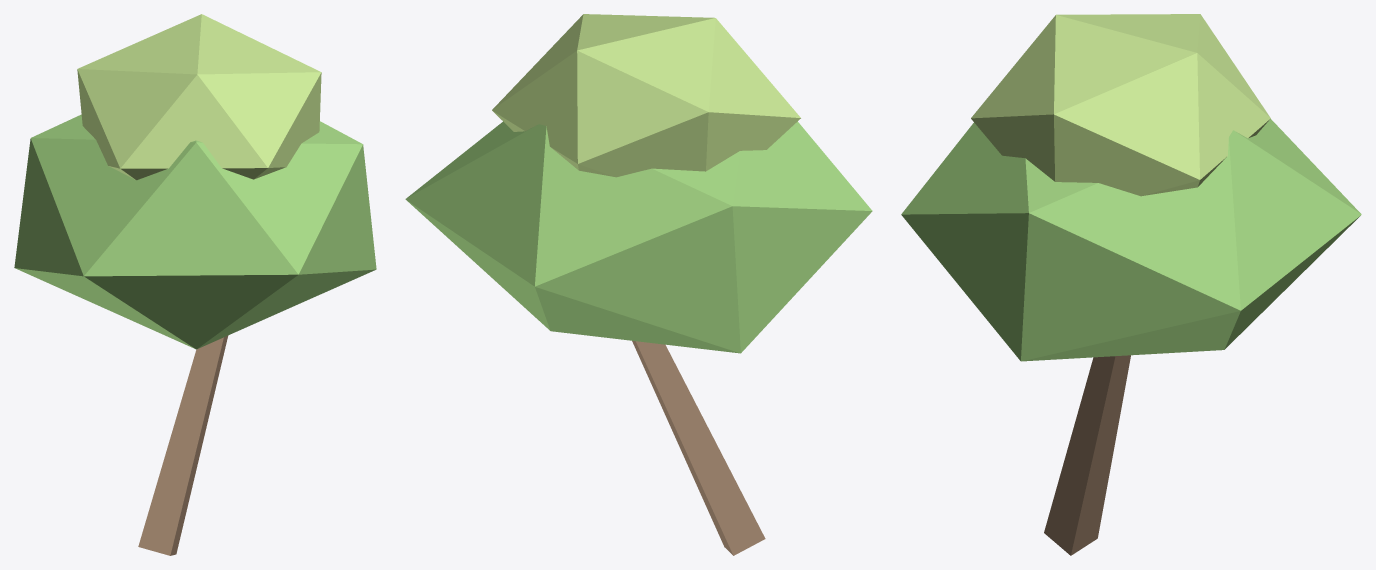
File: laranjeira_3_lod.fbx
3 renders of one model, left to right at view 1: azimuth 30°, elevation 25°; view 2: azimuth 150°, elevation 25°; view 3: azimuth 270°, elevation 25°, orthographic. The views are drawn at different scales.
Visible parts, largest first — view 1: laranjeira_3_lod~Copa@leaf, laranjeira_3_lod~Copa 0@leaflight, laranjeira_3_lod~Tronco@bark; view 2: laranjeira_3_lod~Copa@leaf, laranjeira_3_lod~Copa 0@leaflight, laranjeira_3_lod~Tronco@bark; view 3: laranjeira_3_lod~Copa@leaf, laranjeira_3_lod~Copa 0@leaflight, laranjeira_3_lod~Tronco@bark.
Part boxes in pixels (x1,y1,x2,y2): laranjeira_3_lod~Copa@leaf: [14, 114, 376, 349]; laranjeira_3_lod~Copa 0@leaflight: [77, 14, 321, 180]; laranjeira_3_lod~Tronco@bark: [138, 335, 228, 555]; laranjeira_3_lod~Copa@leaf: [405, 121, 872, 353]; laranjeira_3_lod~Copa 0@leaflight: [492, 14, 800, 177]; laranjeira_3_lod~Tronco@bark: [632, 341, 765, 555]; laranjeira_3_lod~Copa@leaf: [901, 119, 1361, 361]; laranjeira_3_lod~Copa 0@leaflight: [971, 14, 1270, 196]; laranjeira_3_lod~Tronco@bark: [1044, 355, 1130, 555].
Bounding box in the file's own units: 3.24 × 4.44 × 3.38.
